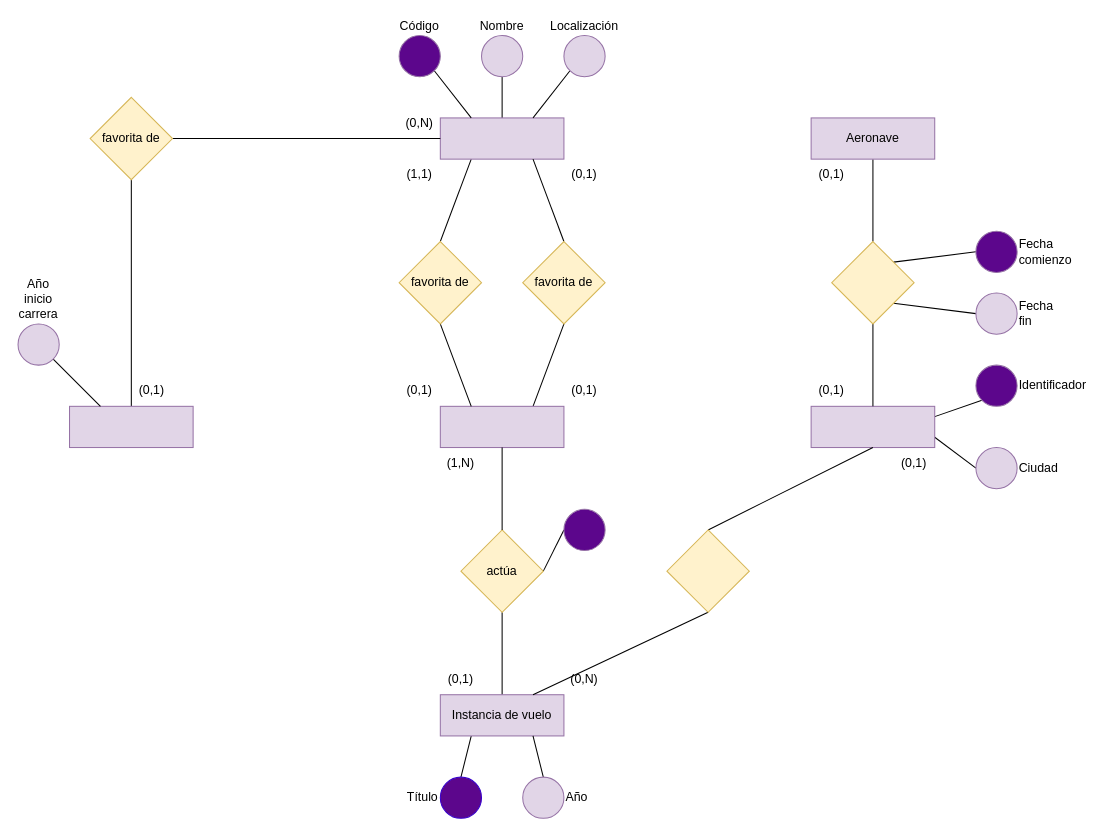
The diagram is 1104 pixels wide and 836 high, and some of its shapes have lost their labels. Each missing label, with the centre of its shape:
"Aeropuerto" goes at point 501,138.
"asignado a" goes at point 707,570.
"contratado por" goes at point 872,282.
"Empleado" goes at point 130,426.
"Instancia de aeronave" goes at point 872,426.
"Personaje" goes at point 584,529.
"Vuelo" goes at point 501,426.
